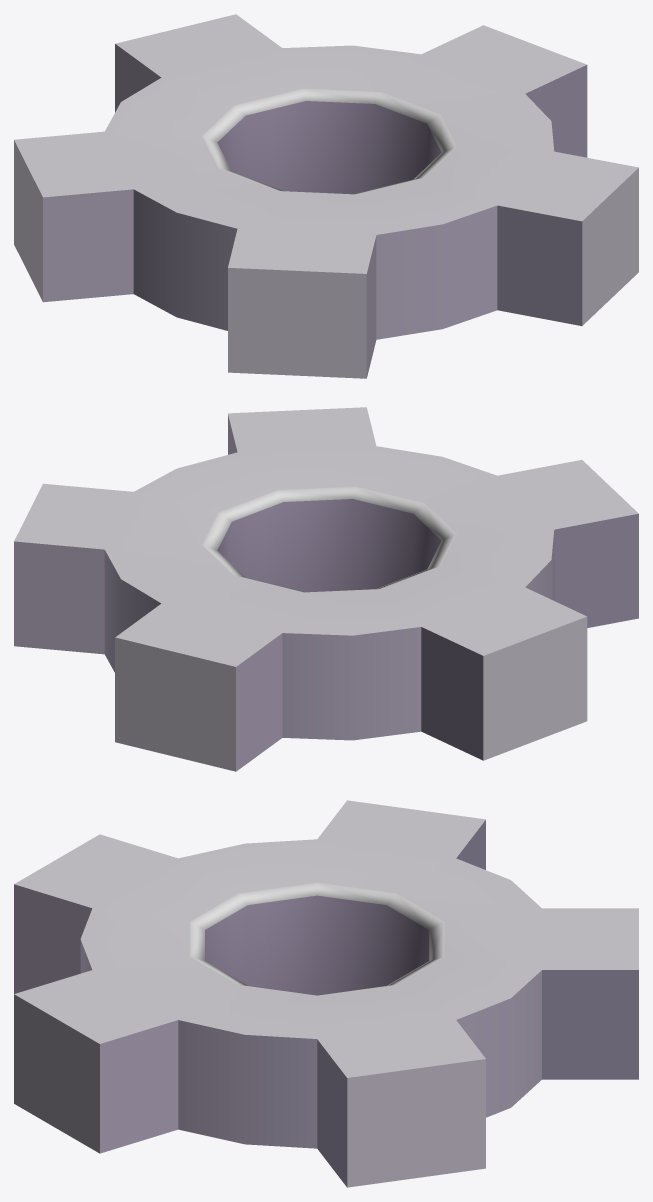
File: CrateCoFinalTargetGearSmall.glb
The picture shows the model from 3 angles, top to bottom: view 1: azimuth 30°, elevation 25°; view 2: azimuth 150°, elevation 25°; view 3: azimuth 270°, elevation 25°; orthographic projection. The views are drawn at different scales.
Visible parts, largest first — view 1: CrateCoFinalTargetGearSmall; view 2: CrateCoFinalTargetGearSmall; view 3: CrateCoFinalTargetGearSmall.
Part boxes in pixels (left/top/right/bottom): CrateCoFinalTargetGearSmall: left=14, top=14, right=638, bottom=378; CrateCoFinalTargetGearSmall: left=14, top=407, right=638, bottom=771; CrateCoFinalTargetGearSmall: left=14, top=800, right=638, bottom=1187.
Bounding box in the file's own units: 0.7871 × 0.1448 × 0.7485.
